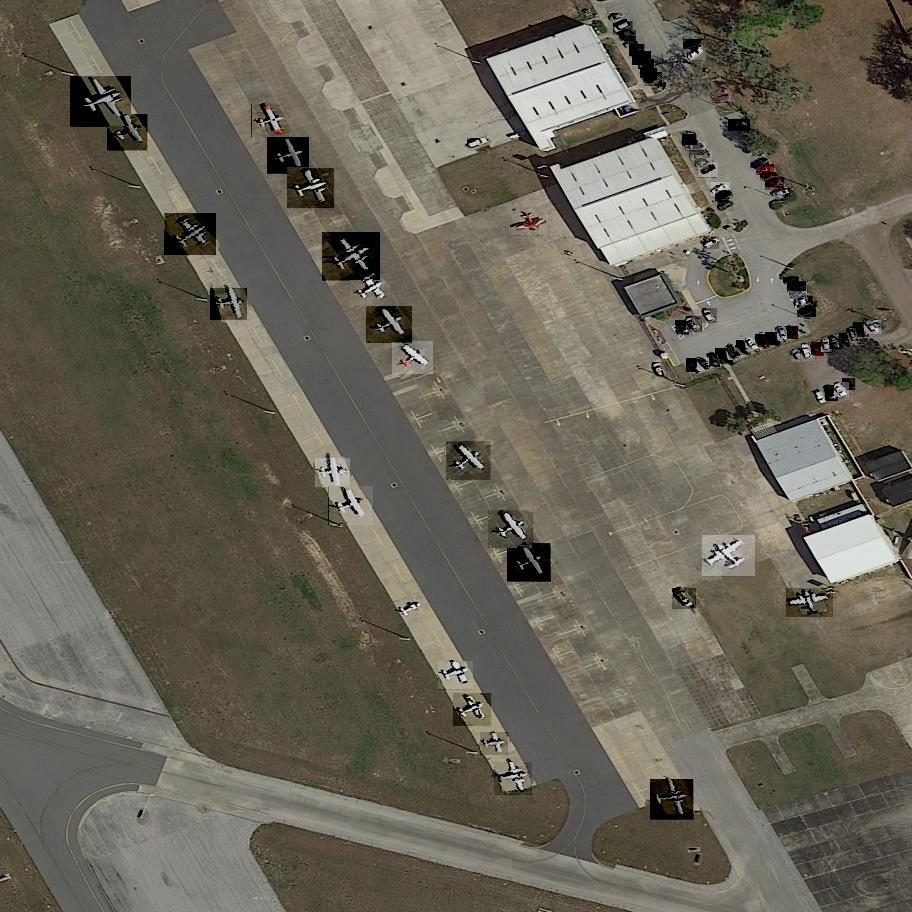large-vehicle: (672, 587, 696, 611)
plane: (70, 71, 131, 136), (322, 231, 380, 286), (703, 531, 756, 581), (165, 210, 217, 259), (288, 163, 336, 215), (651, 773, 694, 825), (446, 439, 492, 485), (488, 506, 533, 552), (508, 539, 552, 586), (267, 132, 310, 178), (329, 485, 374, 528), (367, 305, 412, 347), (108, 112, 149, 156), (392, 338, 433, 379), (350, 271, 391, 310), (210, 283, 247, 326), (453, 689, 492, 729), (252, 102, 289, 143), (787, 587, 834, 618), (495, 761, 532, 796), (438, 659, 473, 692), (510, 208, 549, 237), (316, 458, 350, 488), (482, 732, 508, 756)
small-vehicle: (468, 138, 490, 154), (699, 162, 719, 179), (864, 319, 882, 337), (652, 361, 669, 380), (798, 301, 817, 318), (729, 119, 750, 134), (686, 316, 703, 334), (716, 347, 733, 365), (711, 182, 730, 198), (614, 21, 634, 36), (697, 356, 714, 373), (688, 46, 706, 62), (695, 156, 713, 172), (853, 322, 869, 340), (750, 156, 768, 172), (633, 51, 651, 67), (766, 177, 785, 192), (802, 343, 816, 363), (745, 337, 761, 354), (702, 307, 717, 325), (791, 287, 809, 302), (645, 72, 663, 87), (795, 297, 817, 309), (607, 13, 627, 26), (834, 382, 850, 398), (765, 331, 781, 347), (791, 348, 807, 364), (736, 339, 751, 356), (825, 385, 839, 403), (683, 39, 702, 52), (703, 235, 719, 250), (686, 358, 701, 374), (842, 377, 857, 393), (716, 190, 733, 204), (756, 333, 770, 350), (829, 335, 843, 352), (756, 164, 775, 176), (771, 188, 790, 200), (787, 281, 806, 293), (620, 29, 636, 43), (676, 320, 690, 336), (811, 342, 825, 358), (815, 390, 828, 407), (777, 326, 790, 343), (717, 200, 735, 212), (682, 134, 697, 148), (728, 343, 739, 362), (630, 44, 646, 57), (689, 152, 712, 161), (638, 59, 655, 71), (641, 68, 658, 80), (840, 332, 852, 349), (761, 172, 779, 182), (787, 326, 799, 341), (821, 338, 832, 354), (709, 352, 720, 367), (686, 144, 706, 151), (849, 327, 858, 341), (712, 96, 731, 102), (784, 278, 799, 283)
